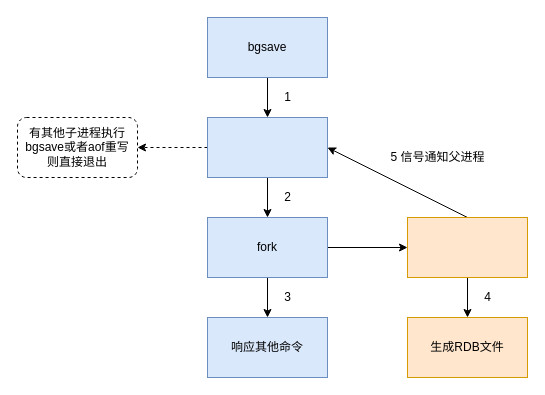
The diagram is 545 pixels wide and 395 high, and some of its shapes have lost their labels. Each missing label, with the centre of its shape:
"子进程" goes at pixel 467 247.
"父进程" goes at pixel 267 147.
